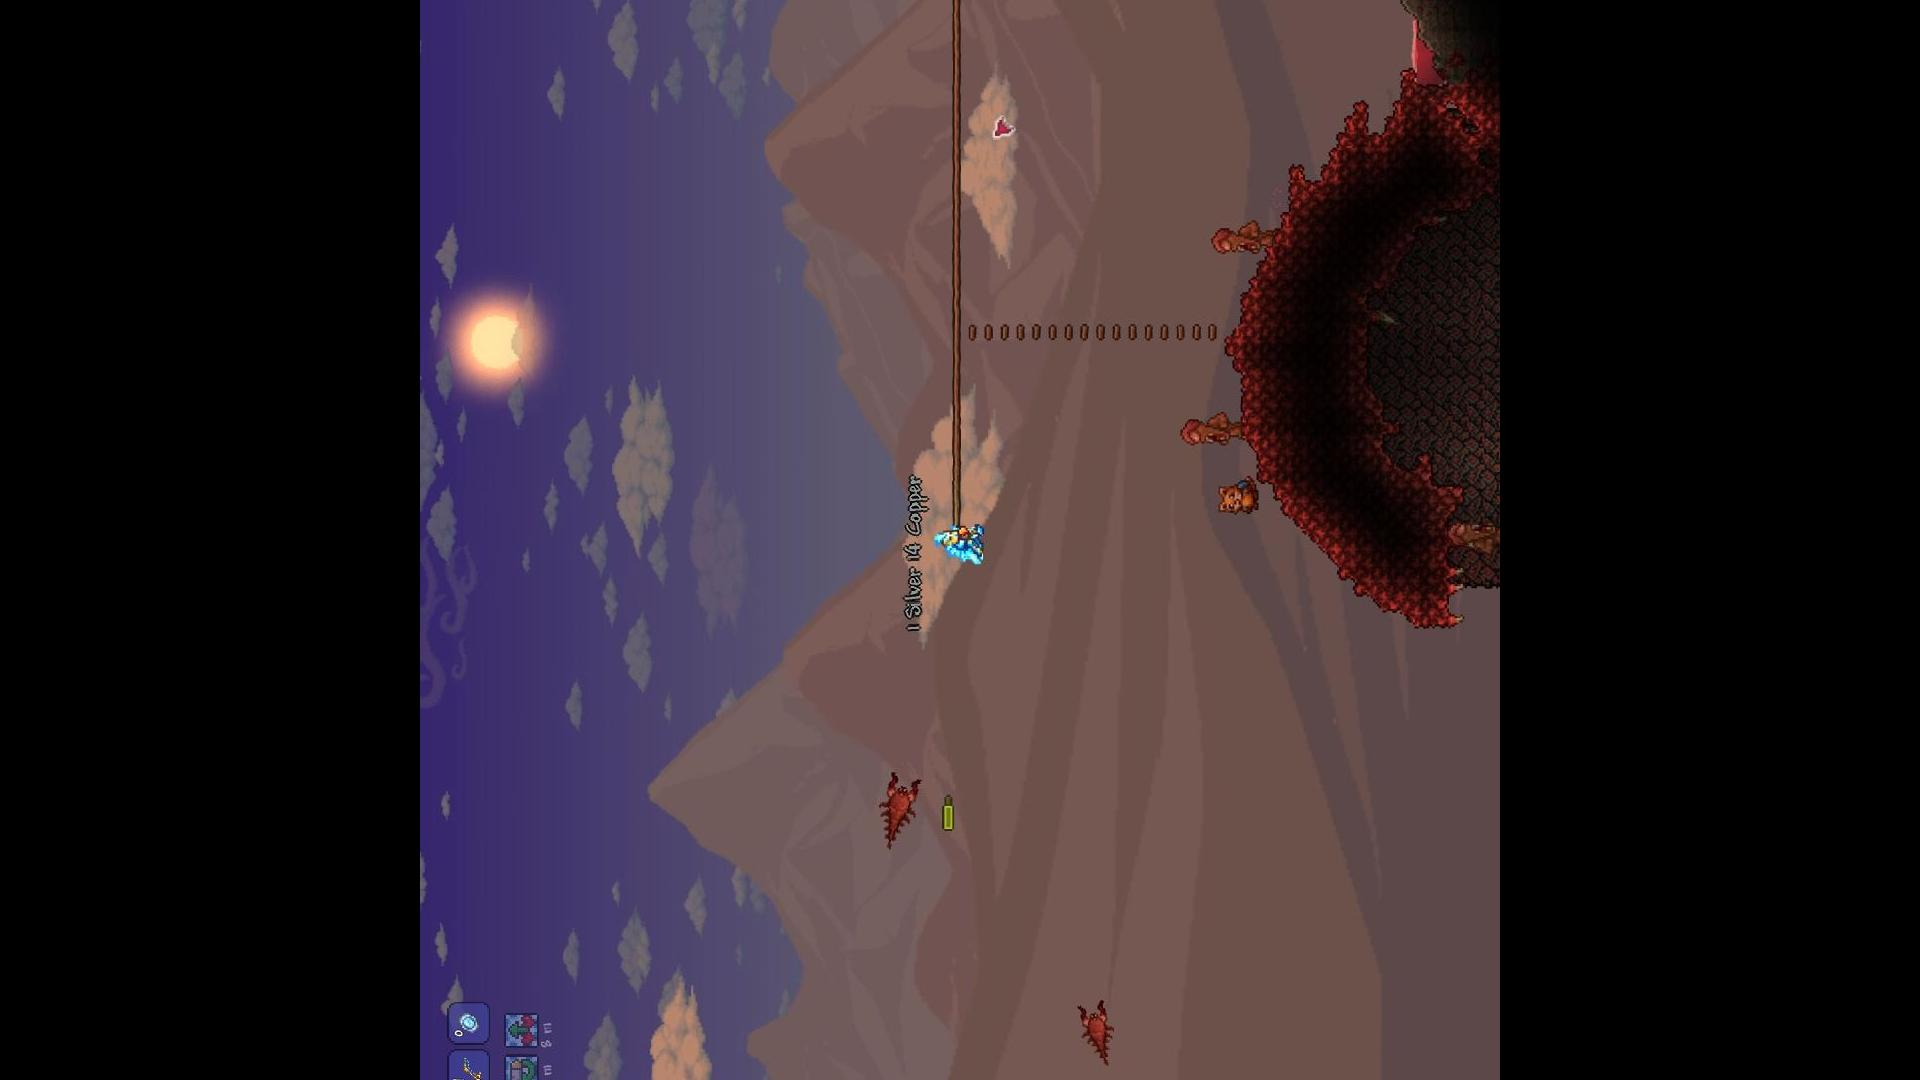crimera: (876, 766, 924, 852), (1067, 994, 1117, 1063)
